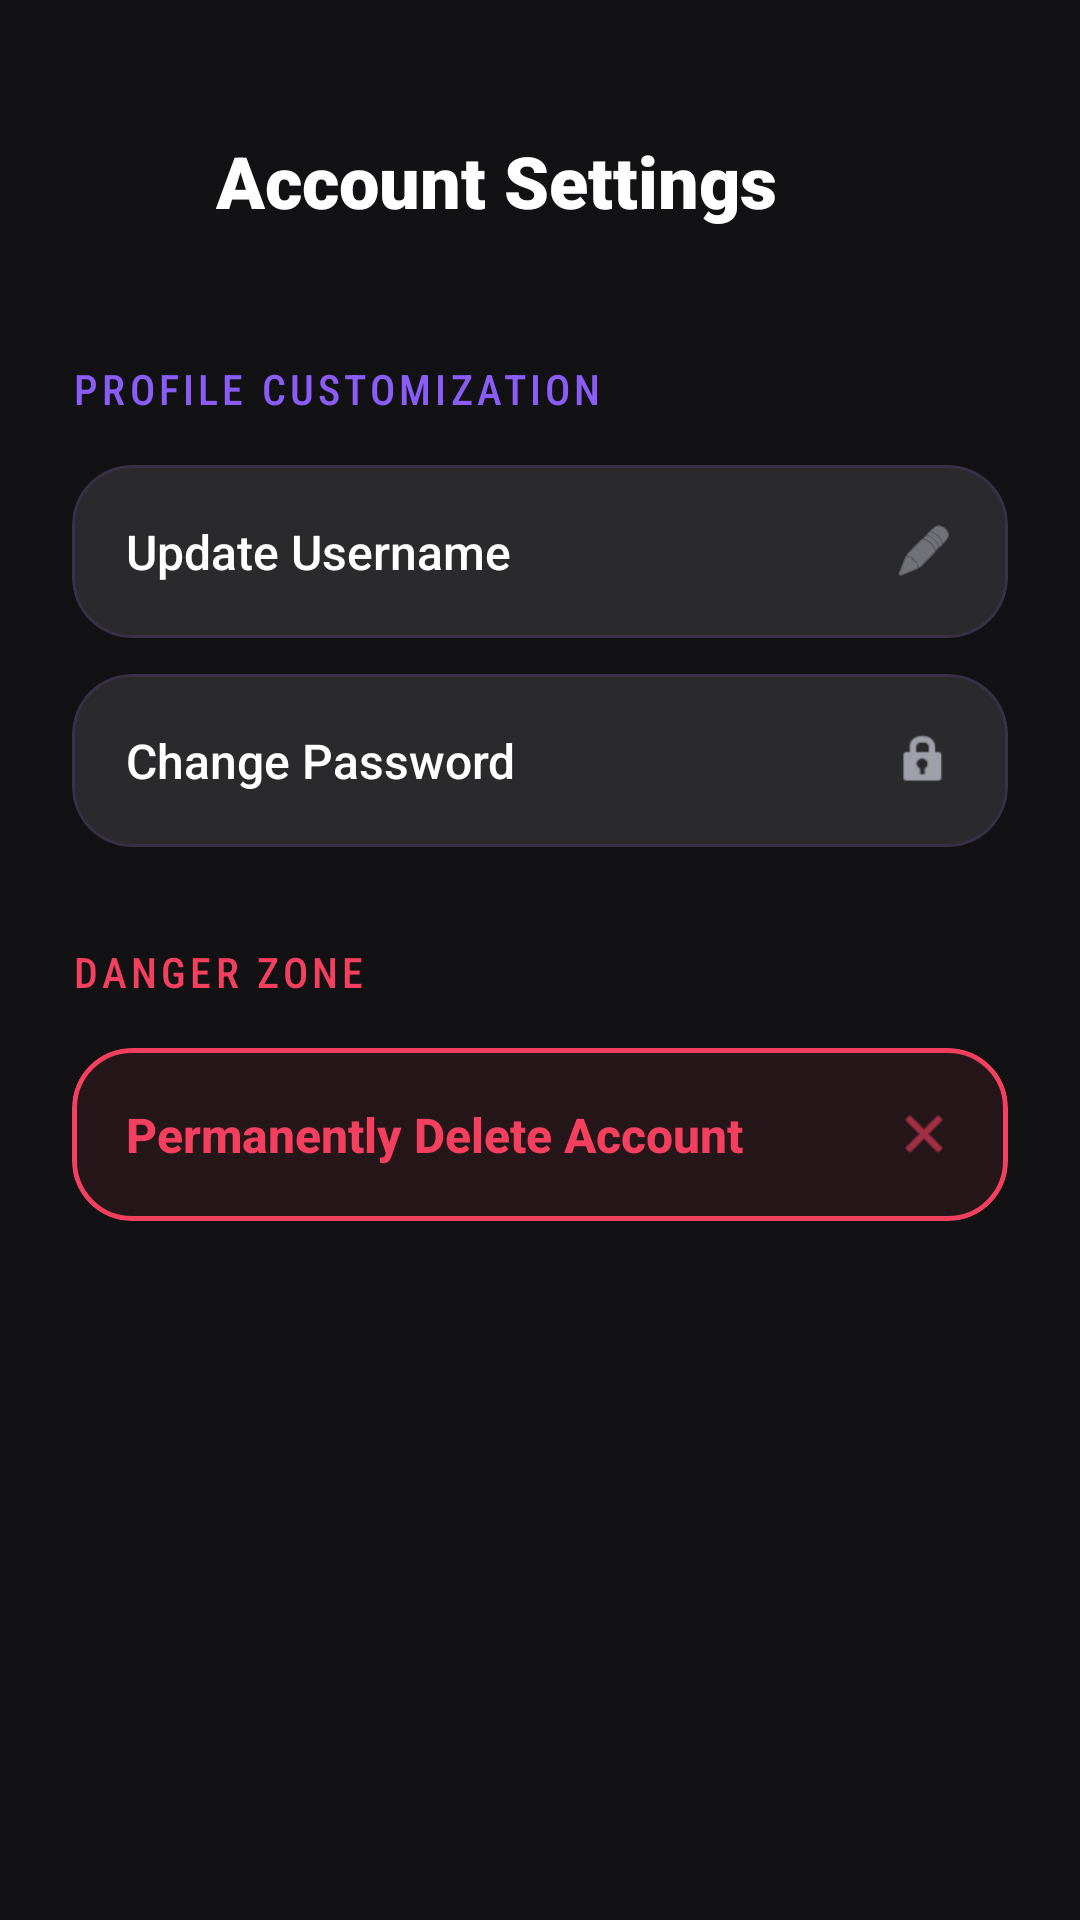

Locate icon controls on the screen. Image size 1080 × 1920, boxes as (x1, y1, x2, y2).
close clear cancel: (905, 1115, 943, 1153)
edit: (899, 525, 949, 576)
lock idle: (903, 735, 942, 781)
